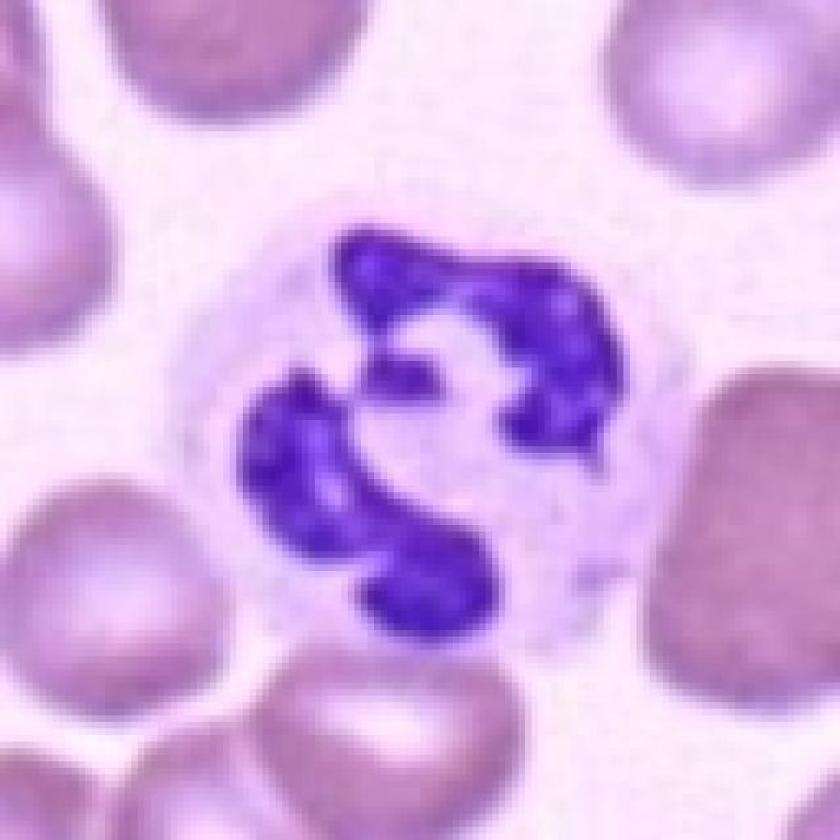neutrophil: (168, 196, 699, 675)
